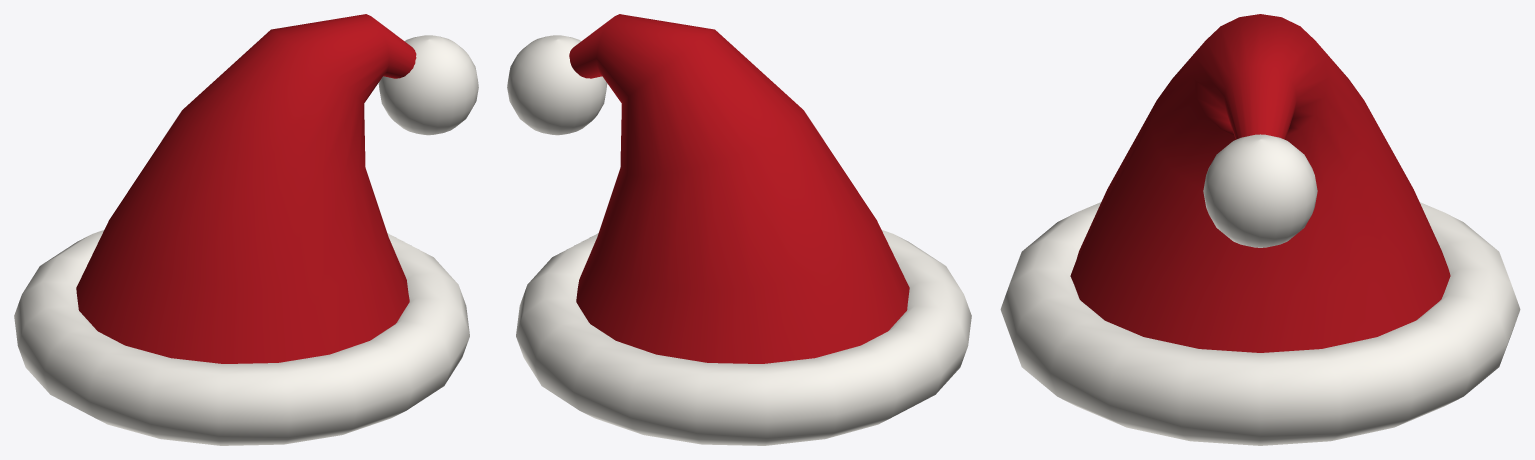
Rendered from santa-hat.glb.
3 views of the same model, side by side, from view 1: azimuth 30°, elevation 25°; view 2: azimuth 150°, elevation 25°; view 3: azimuth 270°, elevation 25° (orthographic). The views are drawn at different scales.
Visible parts, largest first — view 1: cone, brim, bobble; view 2: cone, brim, bobble; view 3: cone, brim, bobble.
Part boxes in pixels (box(x1,y1,x2,y2)): cone: box(76, 14, 416, 363); brim: box(14, 230, 469, 445); bobble: box(378, 35, 478, 135); cone: box(569, 14, 909, 363); brim: box(516, 230, 971, 445); bobble: box(507, 35, 607, 135); cone: box(1070, 14, 1450, 352); brim: box(1000, 202, 1520, 445); bobble: box(1203, 134, 1317, 247).
Size of the model in its own units: 1.08 by 0.7589 by 1.
